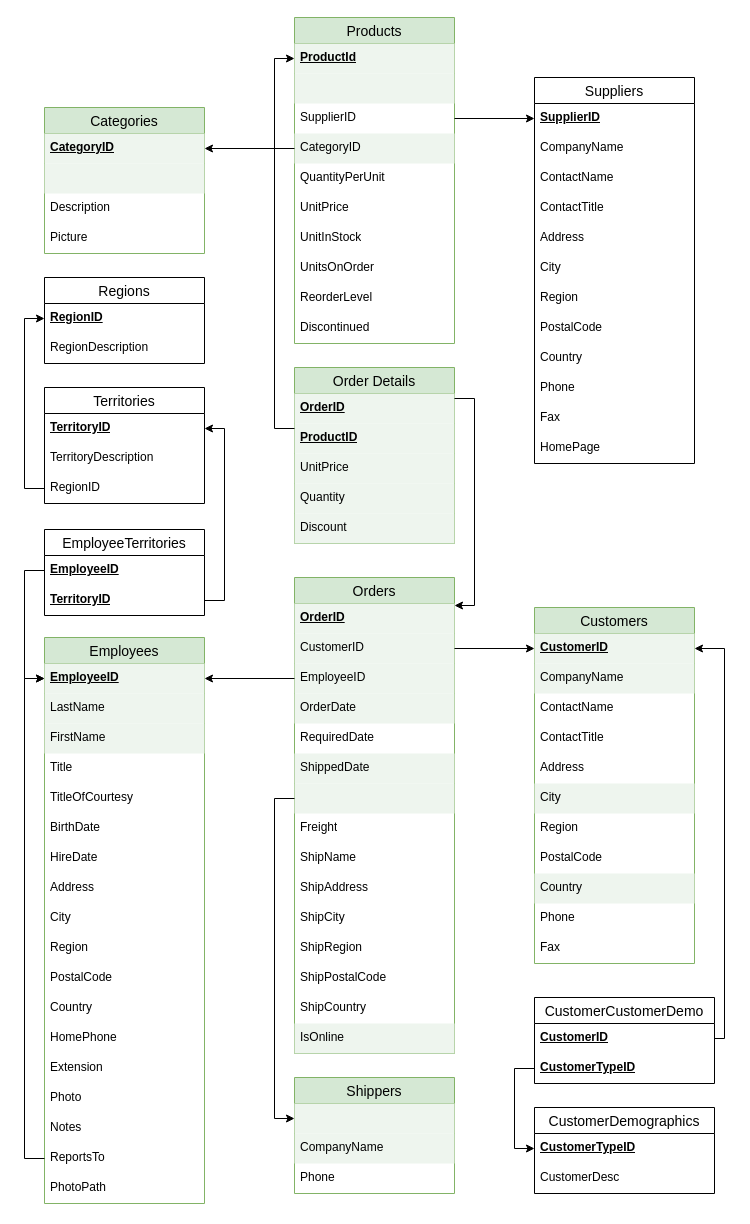
The diagram is 750 pixels wide and 1224 high, and some of its shapes have lost their labels. The shapes that lost their labels are listed below. From the top down, each one's centre as x and y in pixels, then its label:
the point at 374,88: ProductName
the point at 124,178: CategoryName
the point at 374,798: ShipVia
the point at 374,1118: ShipperID
